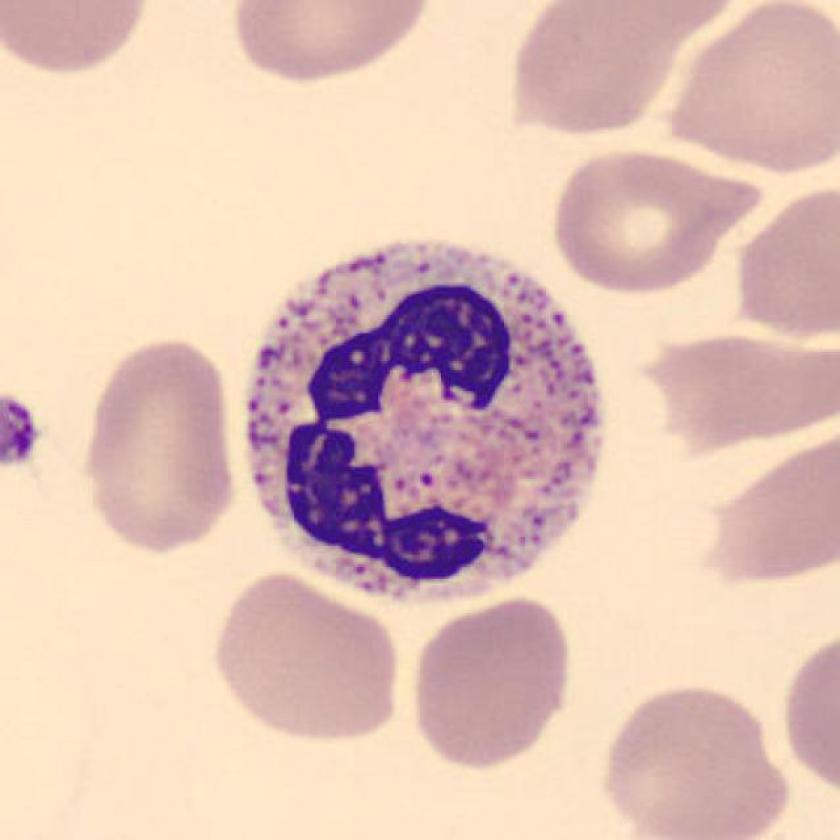neutrophil: (246, 243, 601, 602)
